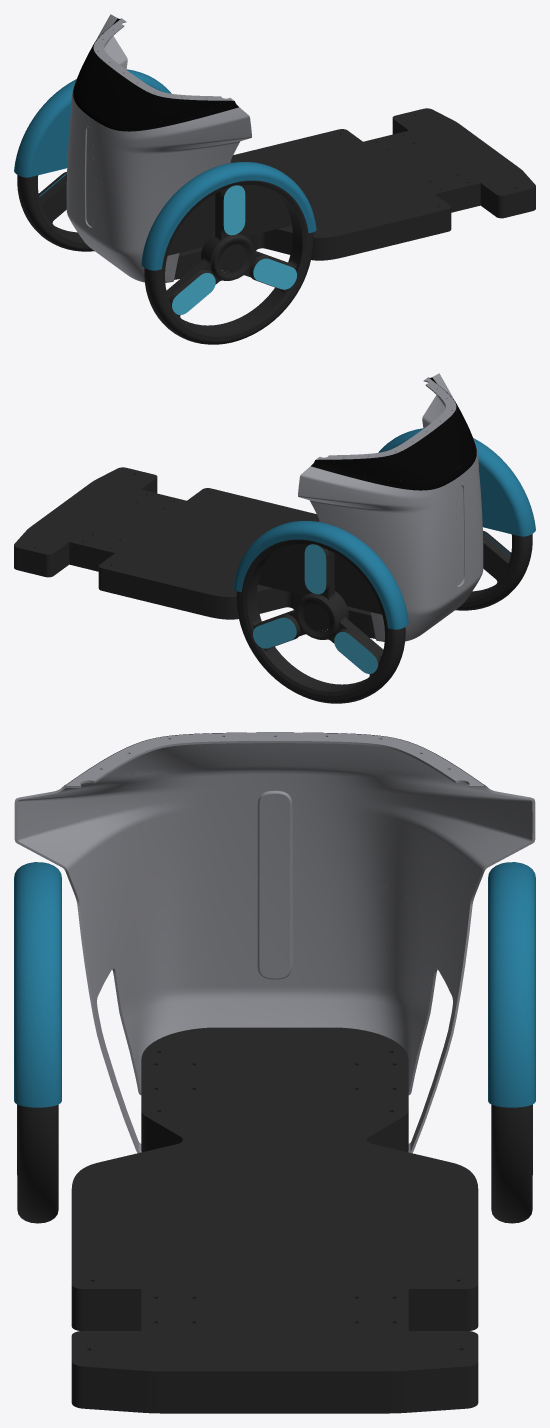
File: car.fbx
3 views of the same model, one above another, from view 1: azimuth 30°, elevation 25°; view 2: azimuth 150°, elevation 25°; view 3: azimuth 270°, elevation 25° (orthographic). The views are drawn at different scales.
Parts seen in each view (by area): view 1: bottom, front, wheel_inside, wheel_frame, front-black, wheel_outside, wheel_yellow; view 2: bottom, front, wheel_inside, wheel_frame, front-black, wheel_outside, wheel_yellow; view 3: bottom, front, wheel_frame, wheel_outside.
Part boxes in pixels (<box>): bottom: <box>174,108,535,279</box>; front: <box>66,14,251,282</box>; wheel_inside: <box>35,172,306,336</box>; wheel_frame: <box>14,69,316,270</box>; front-black: <box>73,18,238,131</box>; wheel_outside: <box>17,175,313,344</box>; wheel_yellow: <box>172,185,296,314</box>; bottom: <box>14,467,375,638</box>; front: <box>298,373,483,641</box>; wheel_inside: <box>243,531,514,695</box>; wheel_frame: <box>233,428,535,629</box>; front-black: <box>311,377,476,490</box>; wheel_outside: <box>236,534,532,703</box>; wheel_yellow: <box>253,544,377,673</box>; bottom: <box>71,1027,478,1413</box>; front: <box>14,732,535,1152</box>; wheel_frame: <box>14,862,535,1107</box>; wheel_outside: <box>17,1104,532,1223</box>.
Bounding box in the file's own units: 1.52 × 0.8209 × 0.8981.
